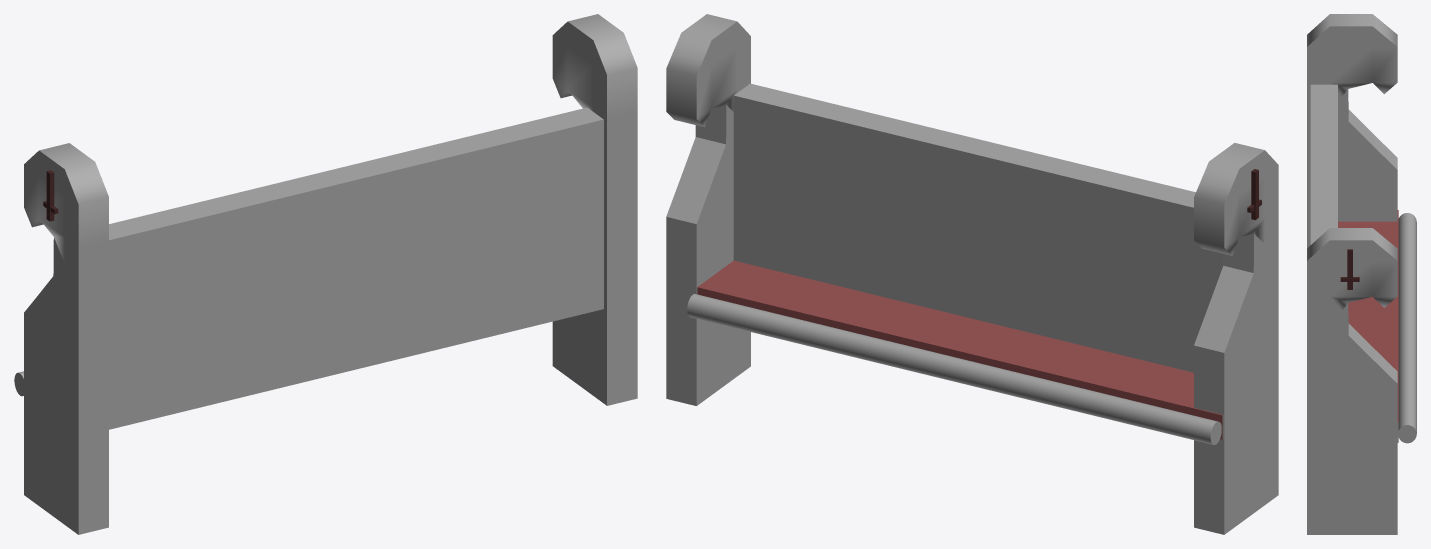
The model's file is pew.fbx.
The picture shows the model from 3 angles, left to right: view 1: azimuth 30°, elevation 25°; view 2: azimuth 150°, elevation 25°; view 3: azimuth 270°, elevation 25°; orthographic projection. The views are drawn at different scales.
Parts seen in each view (by area): view 1: pCube13; view 2: pCube13; view 3: pCube13.
Boxes of the visible parts, x1,y1,x2,y2 form: pCube13: (14,14,637,534); pCube13: (666,14,1278,534); pCube13: (1307,14,1416,534).
Size of the model in its own units: 6 by 3.6 by 1.21.
